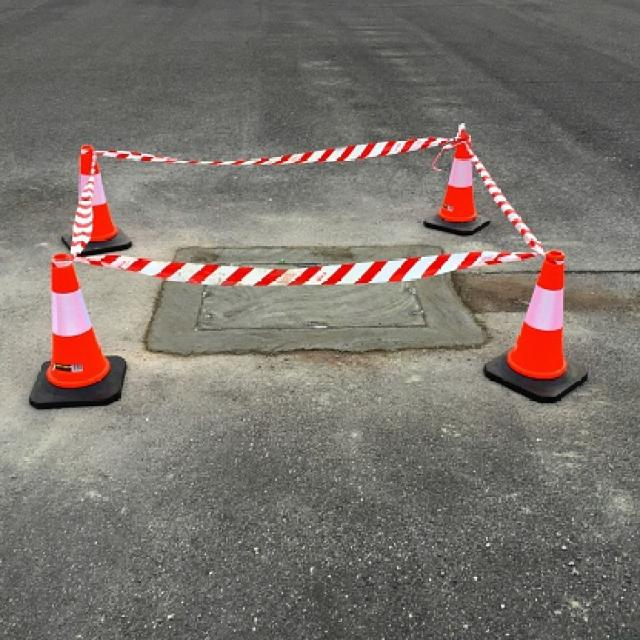cone: (483, 250, 589, 403), (30, 253, 126, 410), (61, 144, 132, 257)
